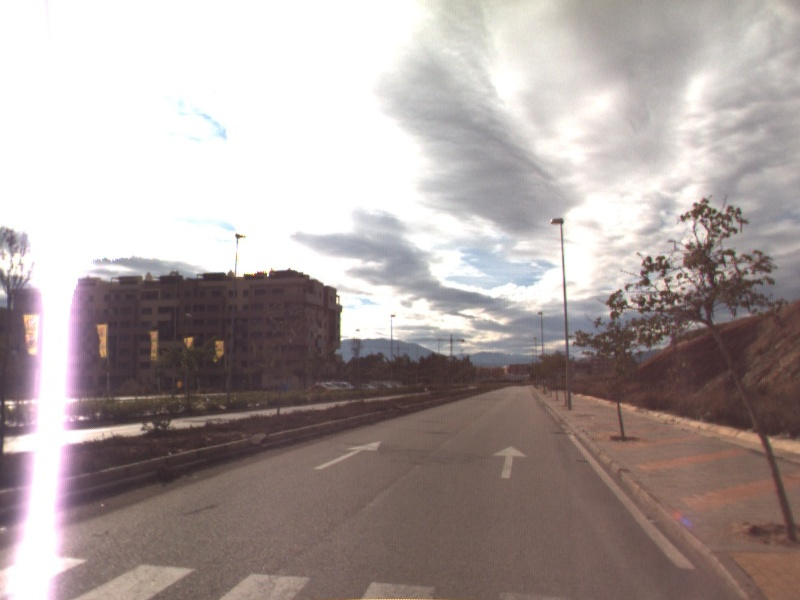STRAIGHT: (311, 439, 384, 471), (491, 444, 530, 480)
